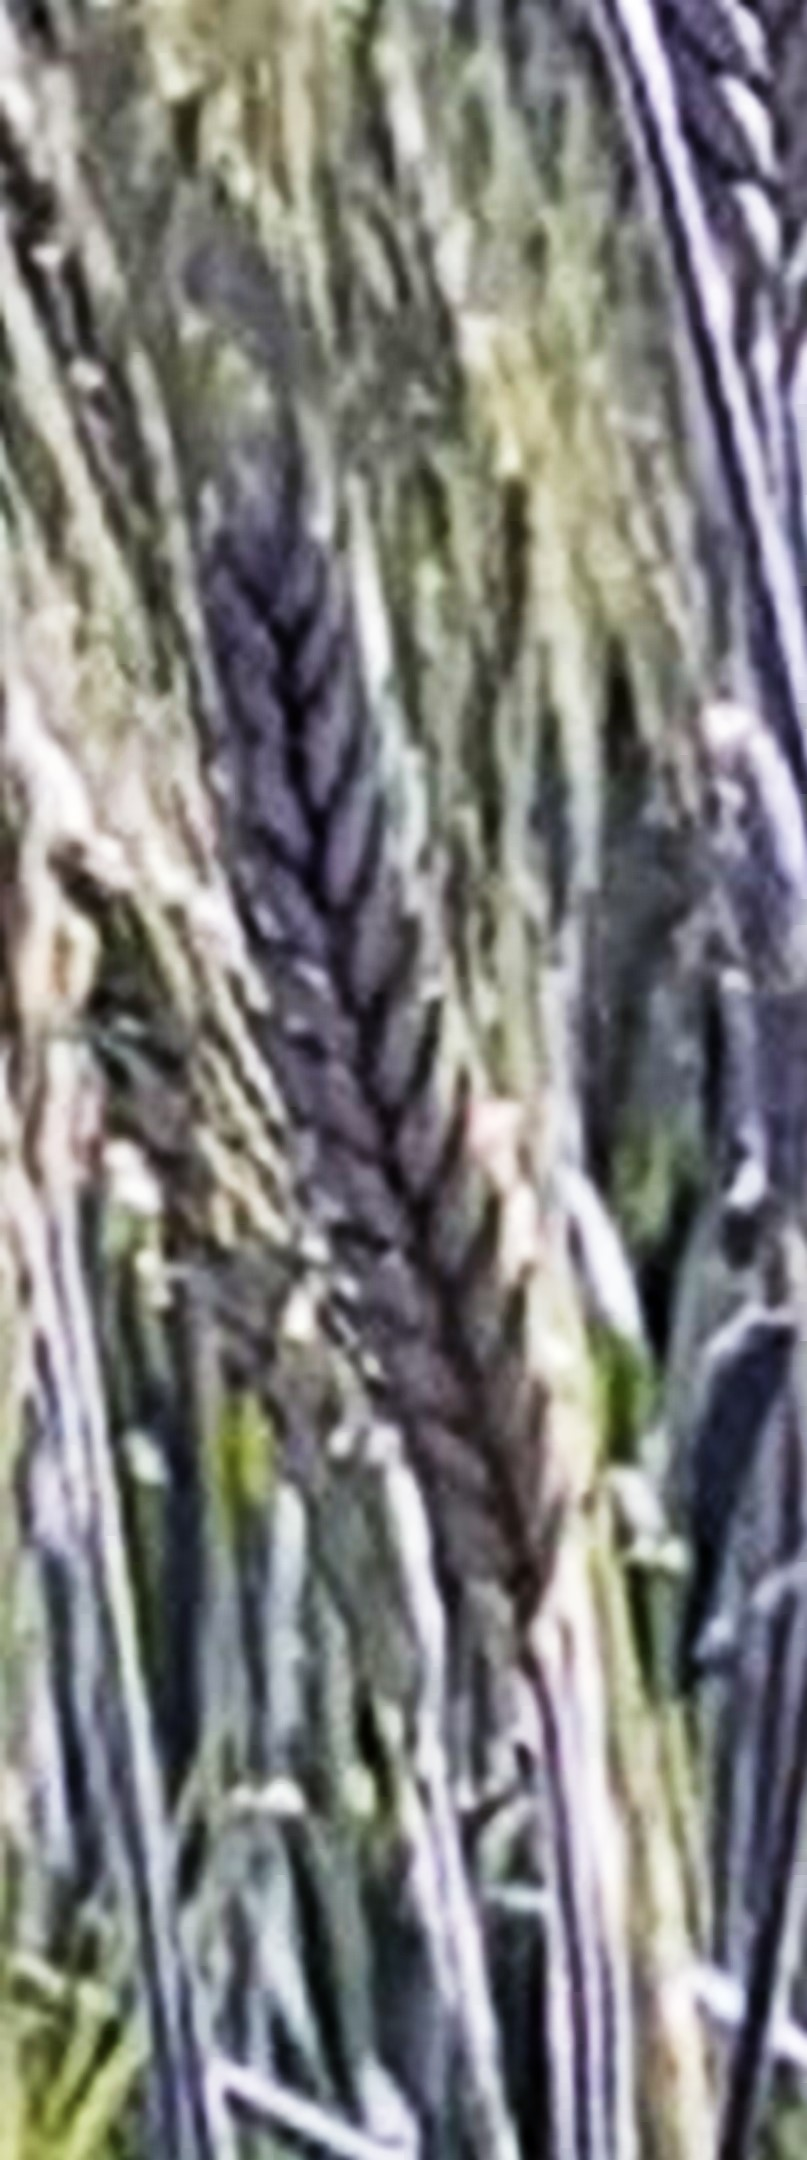Healthy Wheat: (156, 508, 633, 1699)
